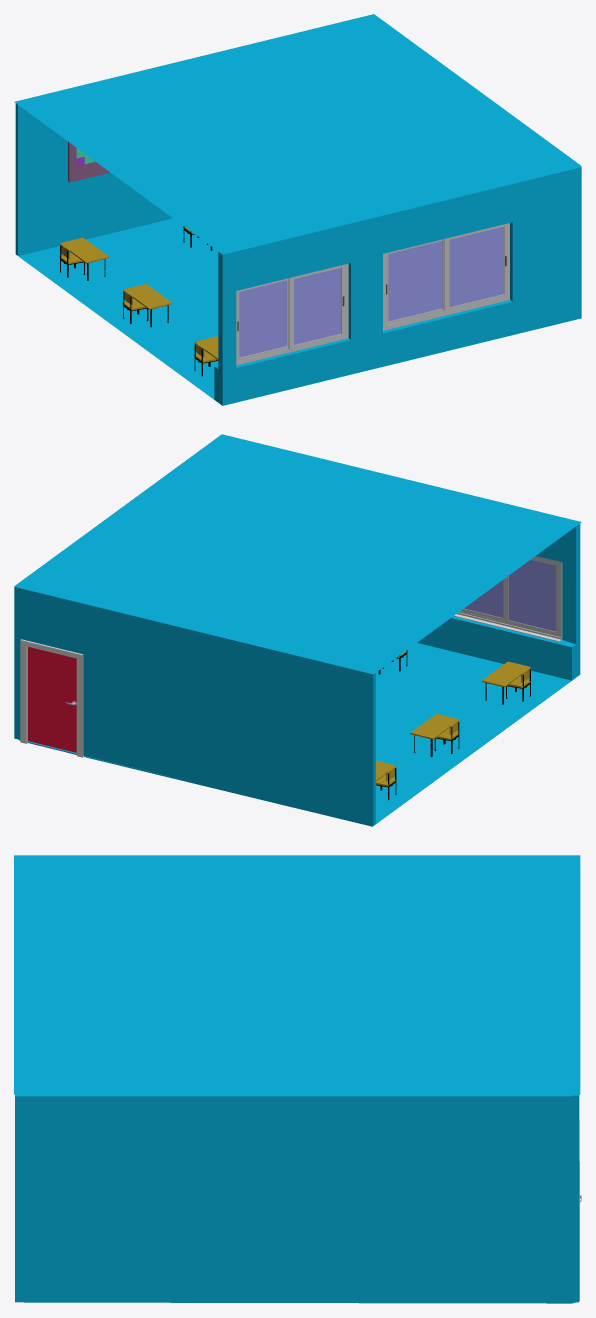
The model's file is ExportedBlenderFBXFile.fbx.
3 views of the same model, one above another, from view 1: azimuth 30°, elevation 25°; view 2: azimuth 150°, elevation 25°; view 3: azimuth 270°, elevation 25° (orthographic). The views are drawn at different scales.
Visible parts, largest first — view 1: Plane.002, Plane.001, Window.R.001, Window.L.001, Window.R, Window.L, Cube.001, WindowFrame.001, Cube.006, WindowFrame; view 2: Plane.002, Plane.001, Door, Window.L, Cube.001, DoorFrame, Window.R, WindowFrame; view 3: Plane.002, Plane.001.
Part boxes in pixels (x1,y1,x2,y2): Plane.002: [14, 14, 581, 253]; Plane.001: [15, 103, 581, 405]; Window.R.001: [443, 223, 507, 312]; Window.L.001: [386, 239, 443, 325]; Window.R: [288, 264, 344, 349]; Window.L: [237, 278, 288, 361]; Cube.001: [59, 226, 218, 376]; WindowFrame.001: [383, 223, 510, 330]; Cube.006: [68, 141, 109, 182]; WindowFrame: [236, 263, 348, 365]; Plane.002: [14, 434, 581, 673]; Plane.001: [14, 523, 580, 826]; Door: [27, 647, 76, 754]; Window.L: [503, 557, 559, 636]; Cube.001: [376, 650, 531, 800]; DoorFrame: [20, 639, 83, 757]; Window.R: [461, 580, 503, 621]; WindowFrame: [457, 556, 562, 639]; Plane.002: [14, 855, 580, 1094]; Plane.001: [15, 1094, 579, 1303].
Size of the model in its own units: 40.2 by 16.62 by 40.31.
